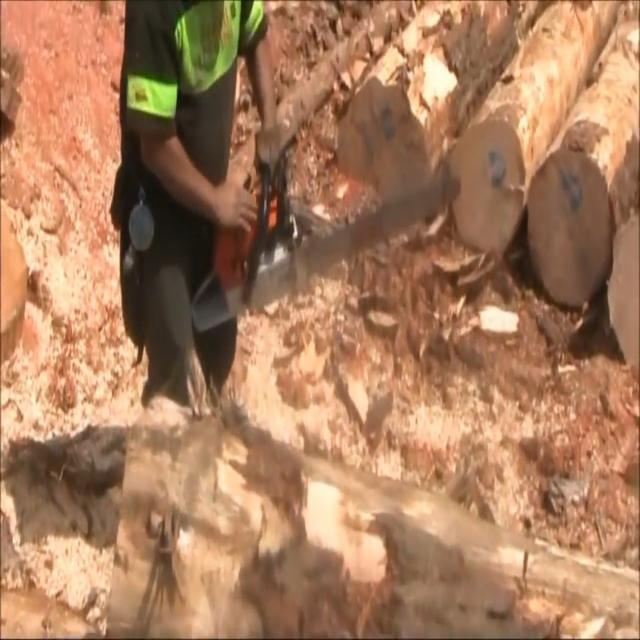Chainsaw: (166, 119, 476, 374)
